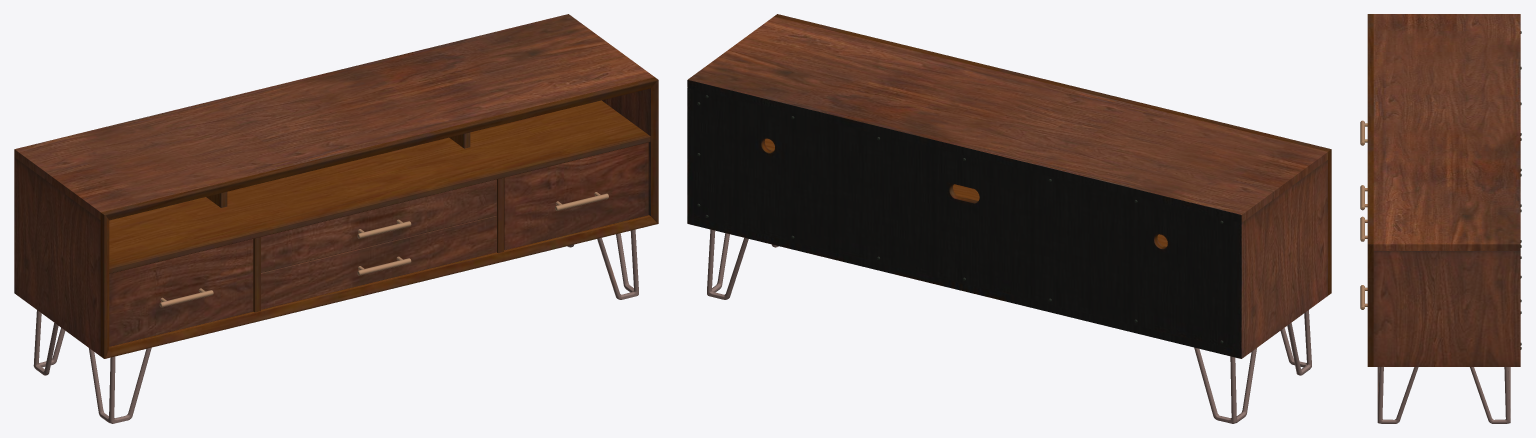
Rendered from abo_B07BVHKPFS.glb.
The picture shows the model from 3 angles, left to right: view 1: azimuth 30°, elevation 25°; view 2: azimuth 150°, elevation 25°; view 3: azimuth 270°, elevation 25°; orthographic projection. The views are drawn at different scales.
Parts seen in each view (by area): view 1: RootNode; view 2: RootNode; view 3: RootNode.
Boxes of the visible parts, bbox=[...] form: RootNode: bbox=[14, 14, 658, 423]; RootNode: bbox=[687, 14, 1331, 423]; RootNode: bbox=[1360, 14, 1521, 423].
Size of the model in its own units: 1.63 by 0.6096 by 0.4805.
Materials: 1 (1 with a texture image).
